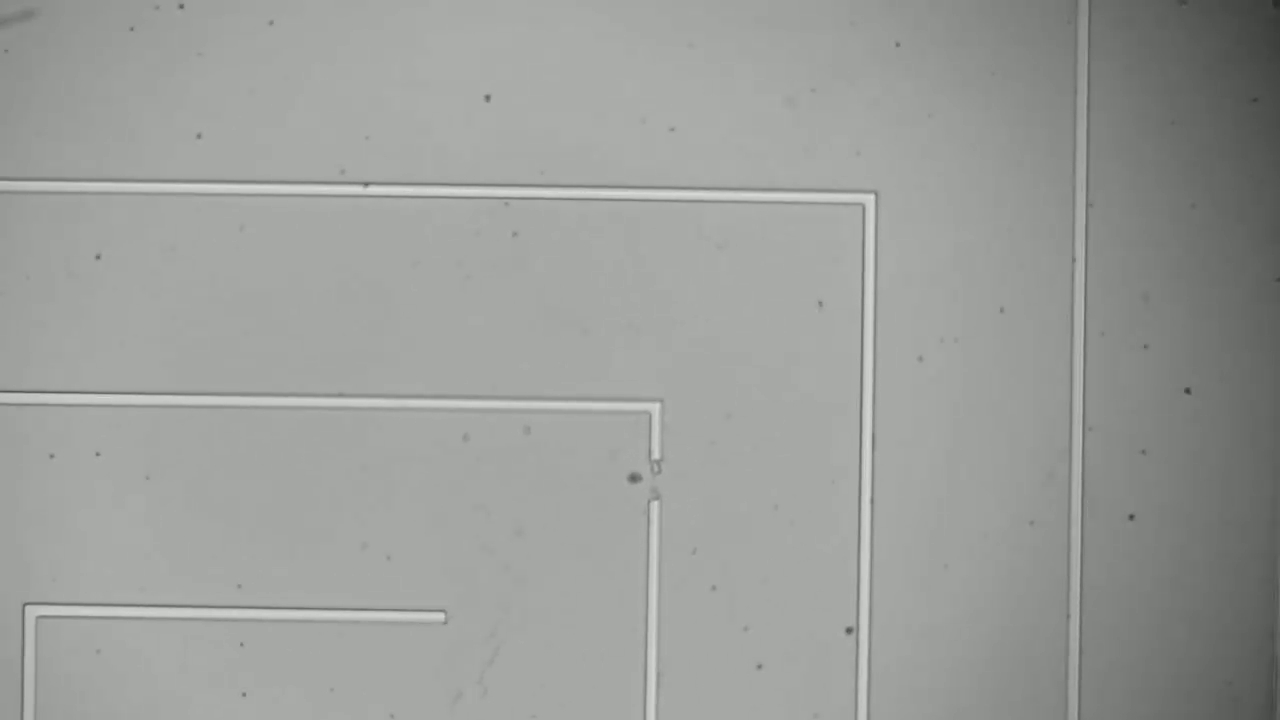open: (635, 441, 681, 520)
